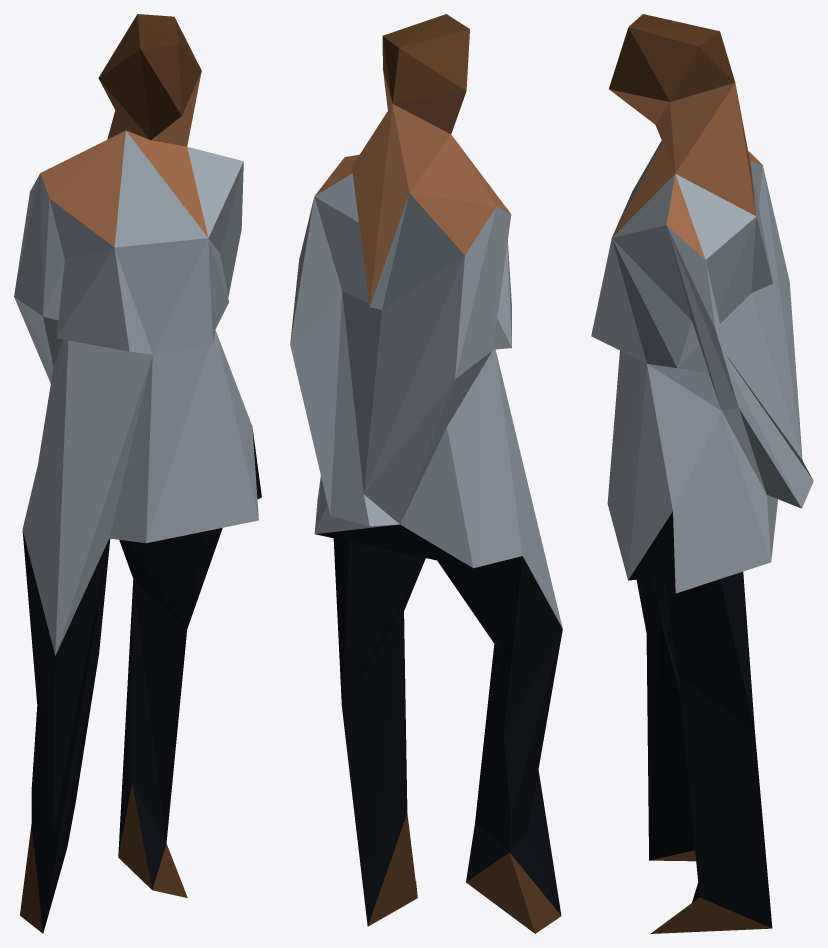
The model's file is walker-1.glb.
3 renders of one model, left to right at view 1: azimuth 30°, elevation 25°; view 2: azimuth 150°, elevation 25°; view 3: azimuth 270°, elevation 25°, orthographic. The views are drawn at different scales.
Parts seen in each view (by area): view 1: Woman05; view 2: Woman05; view 3: Woman05.
Boxes of the visible parts, box(x1,y1,x2,y2) form: Woman05: box(14, 14, 261, 933); Woman05: box(290, 14, 562, 933); Woman05: box(591, 14, 813, 933).
Size of the model in its own units: 0.4411 by 1.58 by 0.3546.
